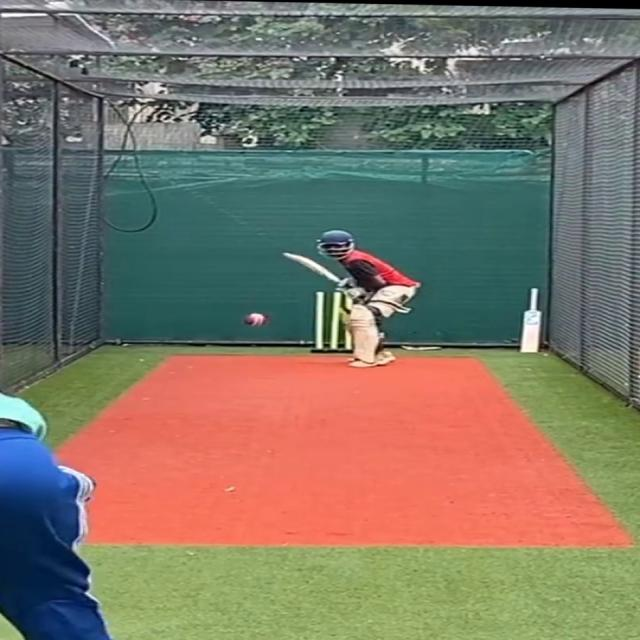ball: (238, 308, 269, 326)
stump: (305, 286, 352, 354)
